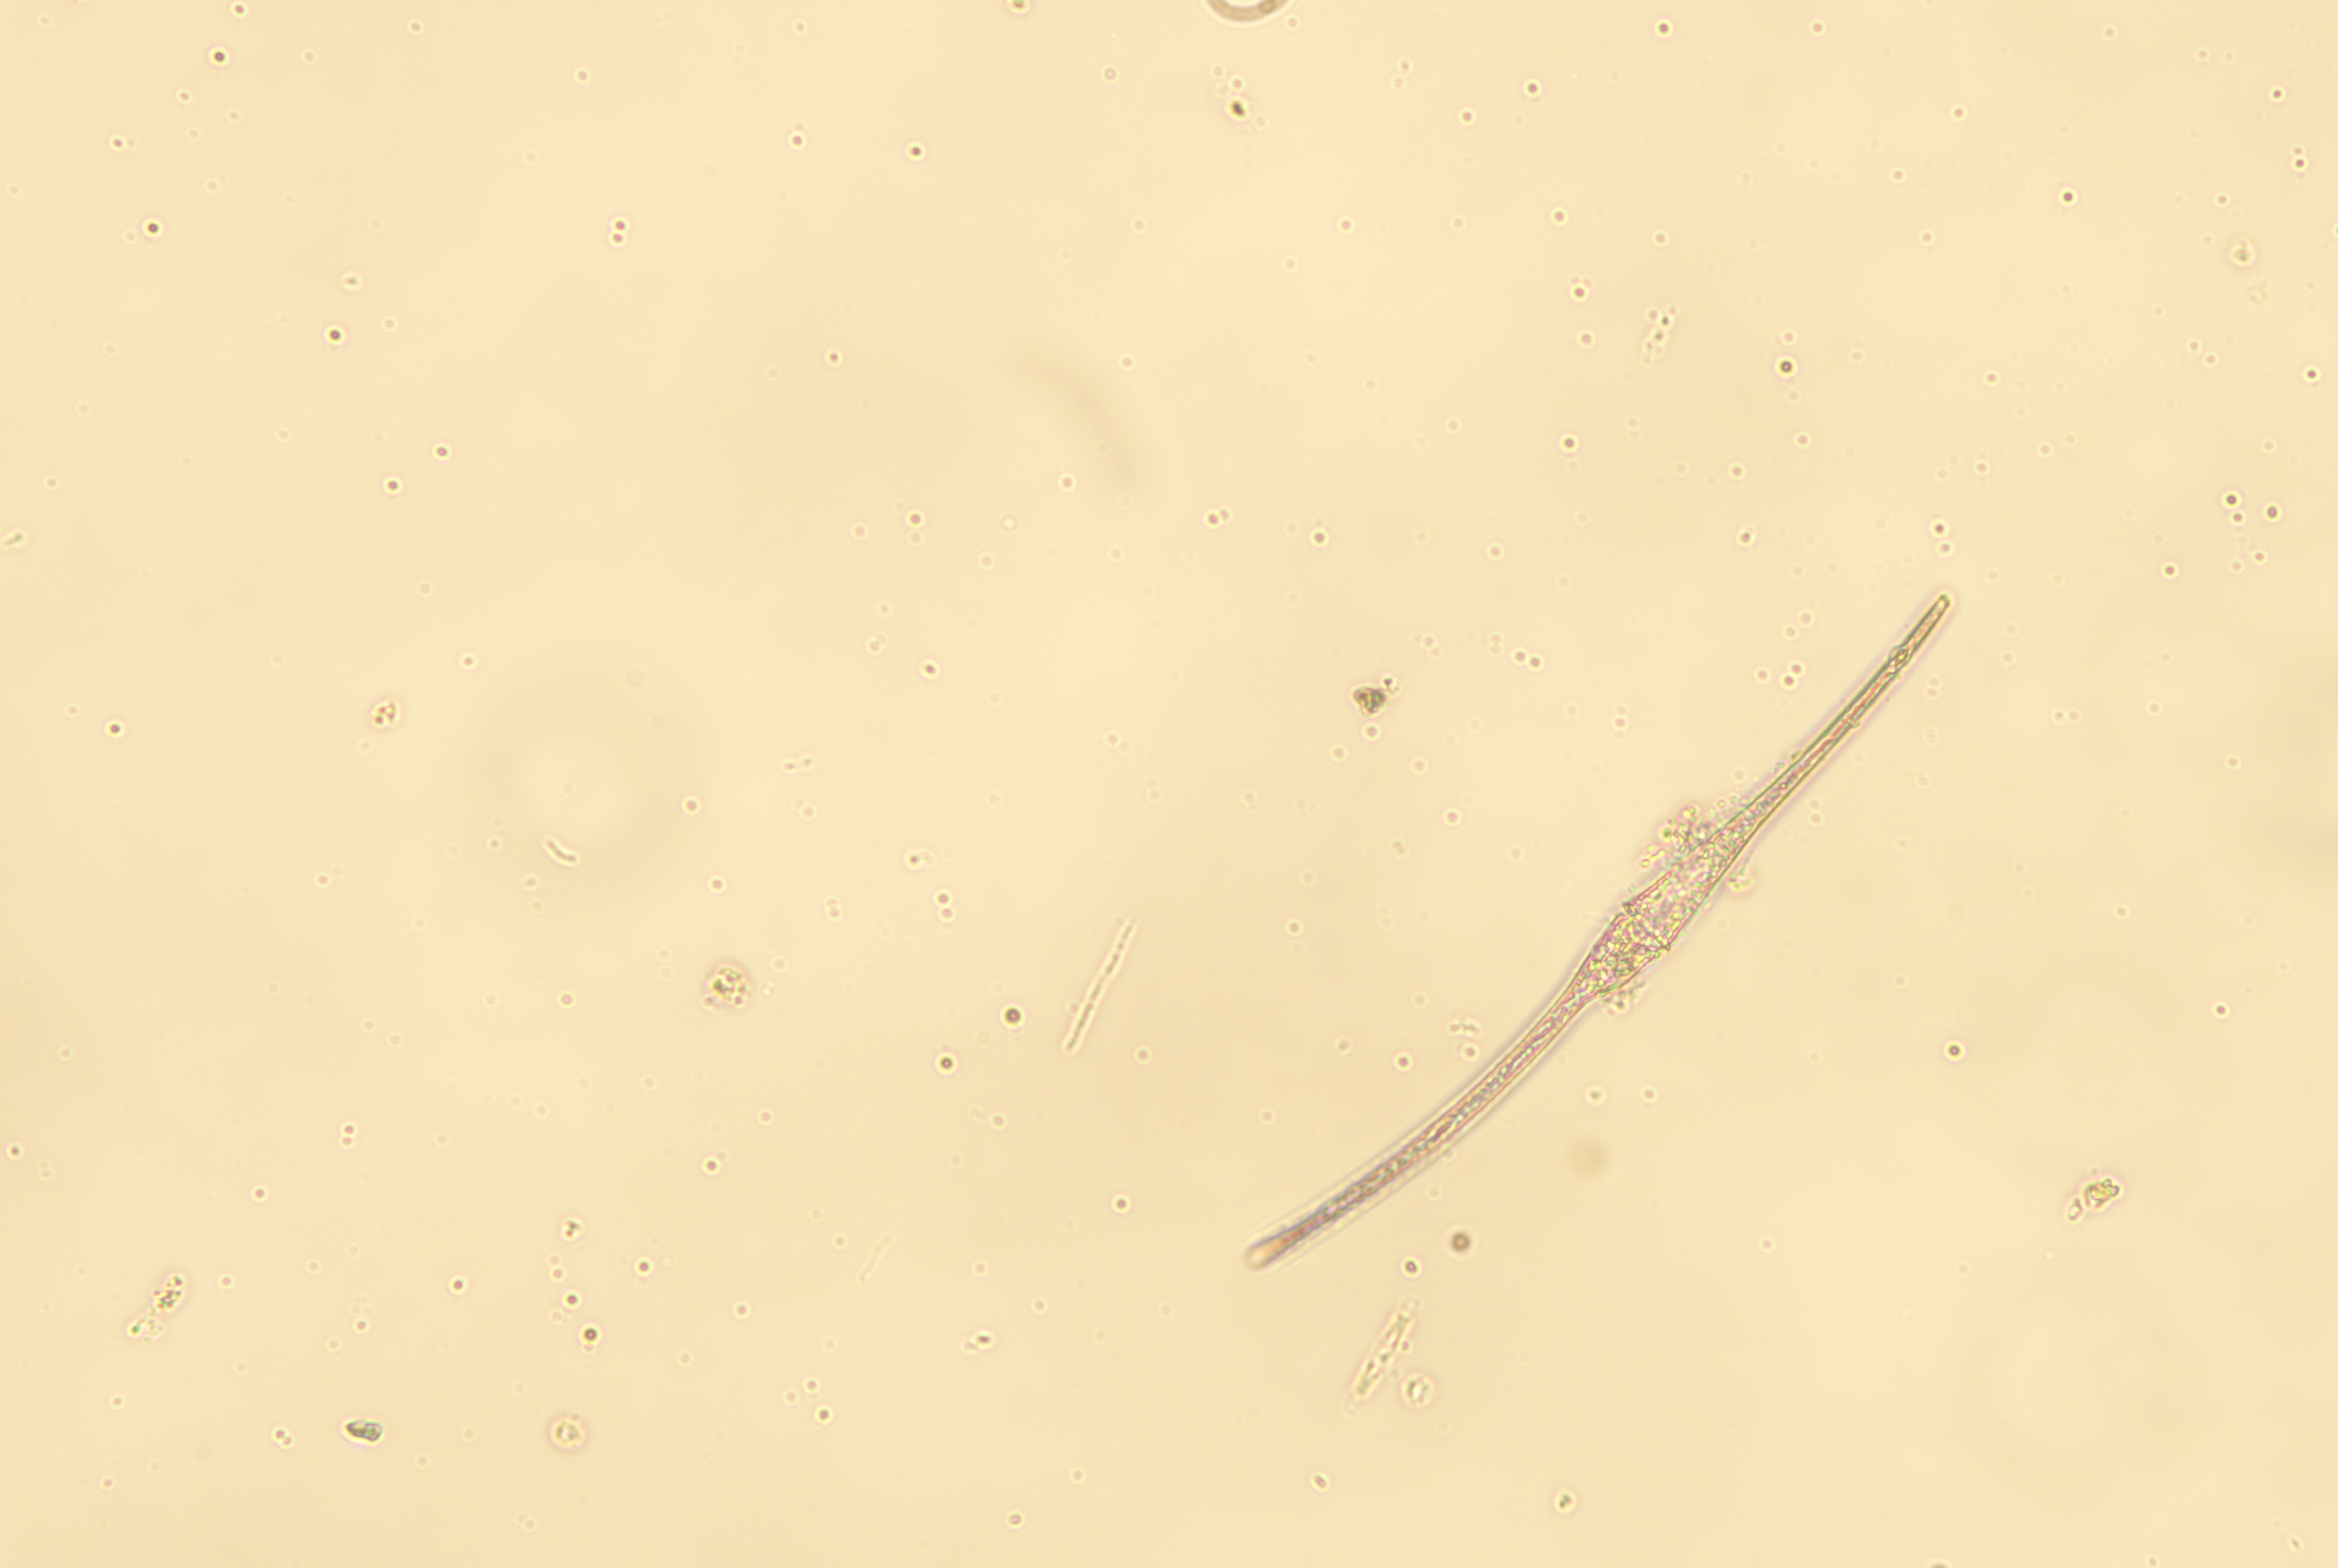ceratium fusus: (1213, 586, 1964, 1269)
